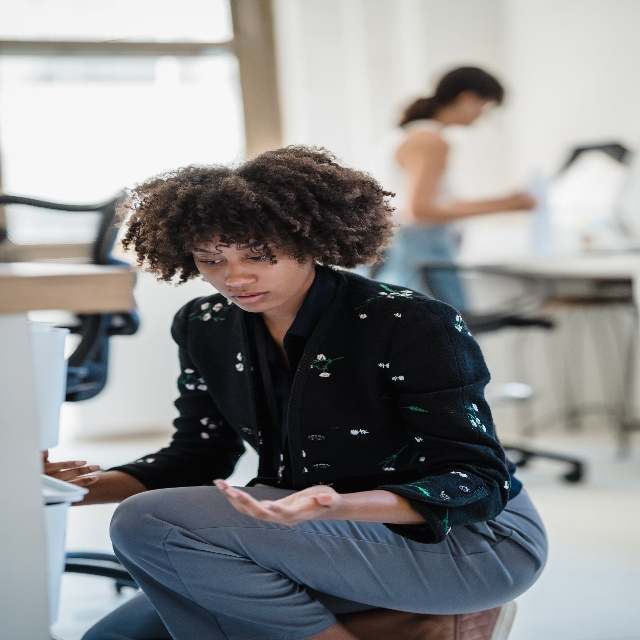Sin_guantes: (213, 477, 338, 528), (39, 445, 102, 486), (506, 192, 535, 213)
